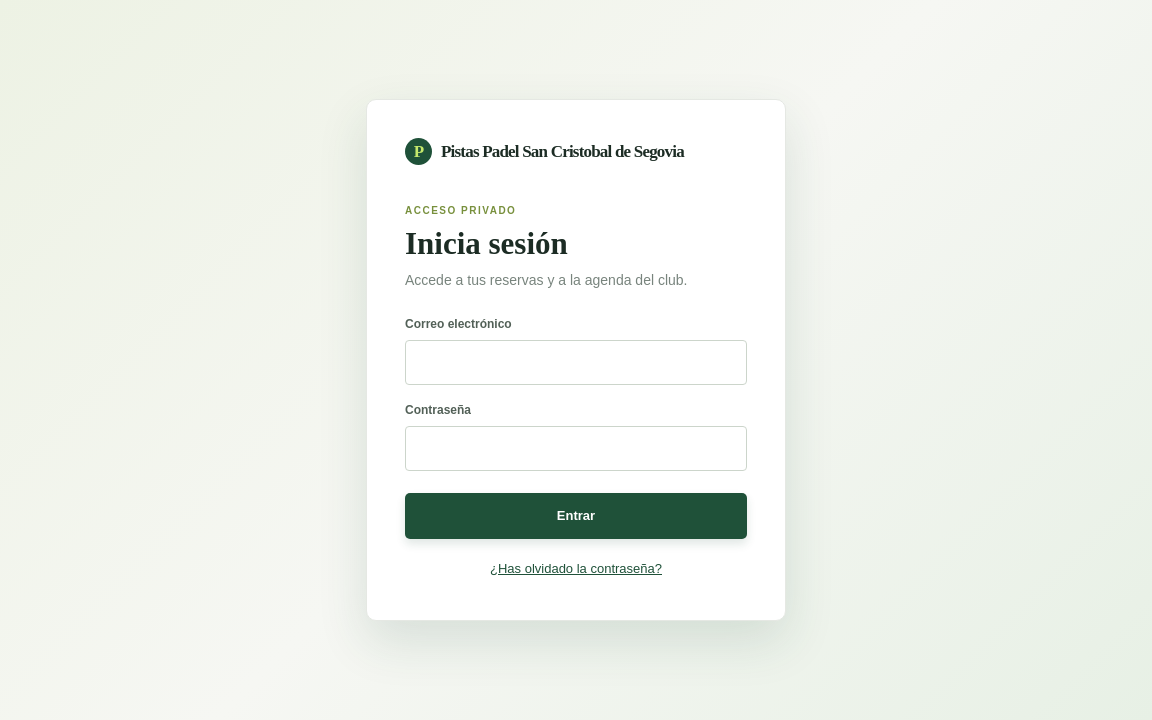
Test: Home › permite iniciar sesión y muestra la agenda del usuario
Type "admin@example.test" into the field labelled "Correo electrónico" at coordinates (576, 362), box [405,340,747,385]
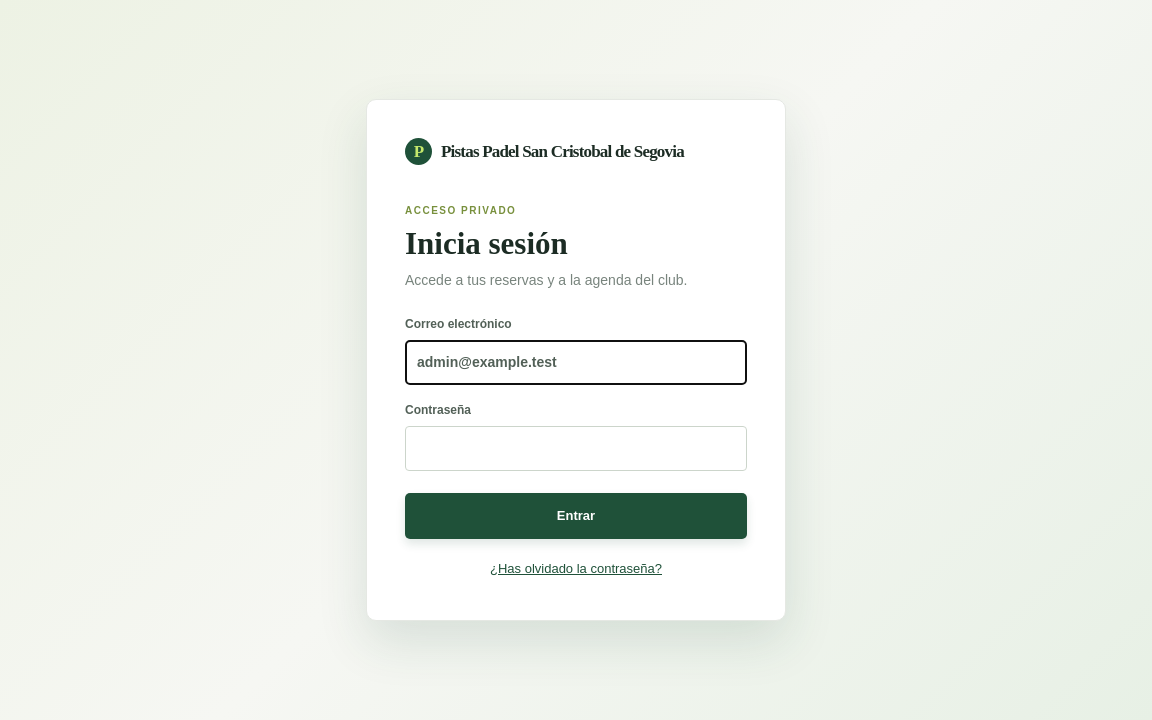
Type "una-contrasena-segura" into the password field labelled "Contraseña" at coordinates (576, 448), box [405,426,747,471]
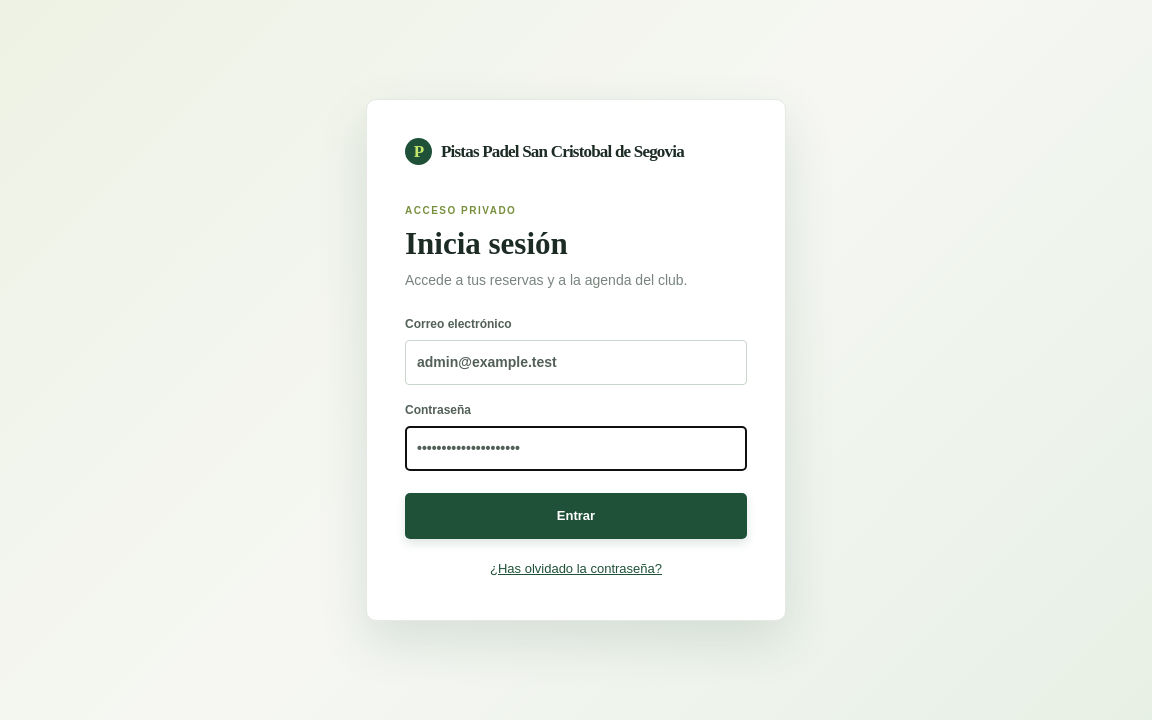
Click the button "Entrar" at coordinates (576, 516), box [405,493,747,538]
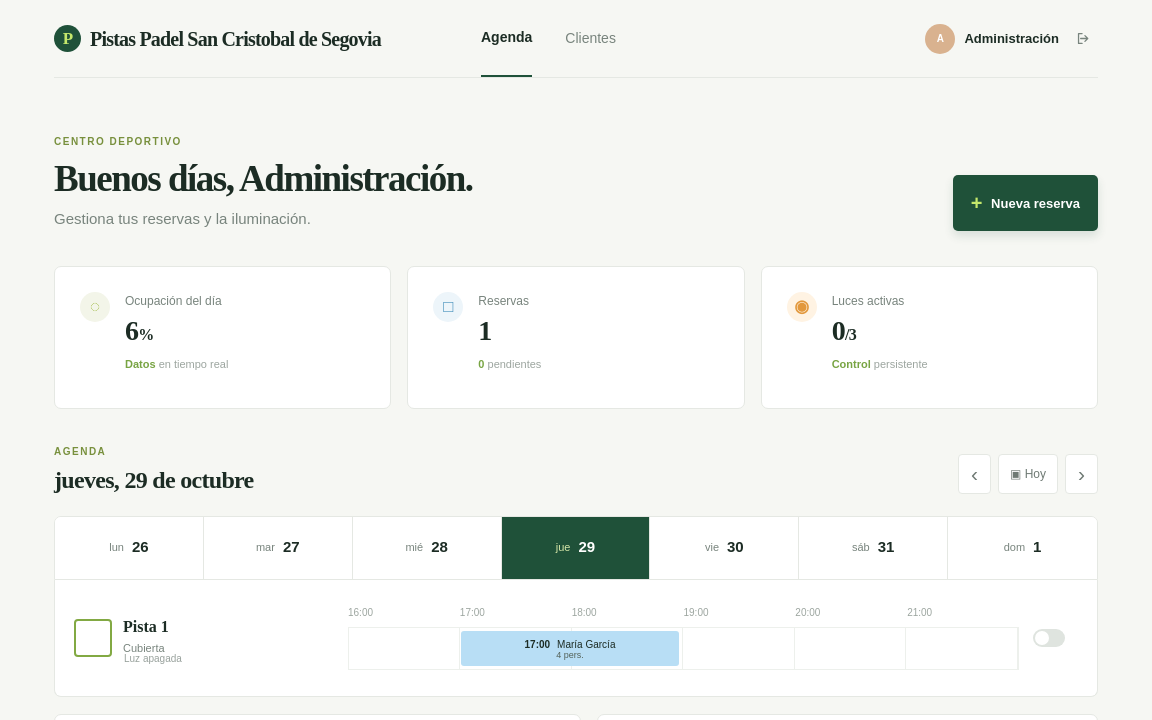
Result: the heading "Buenos días, Administración." is shown at [54,157,473,200]
Result: the heading "Pista 1" is shown at [123,618,169,636]
